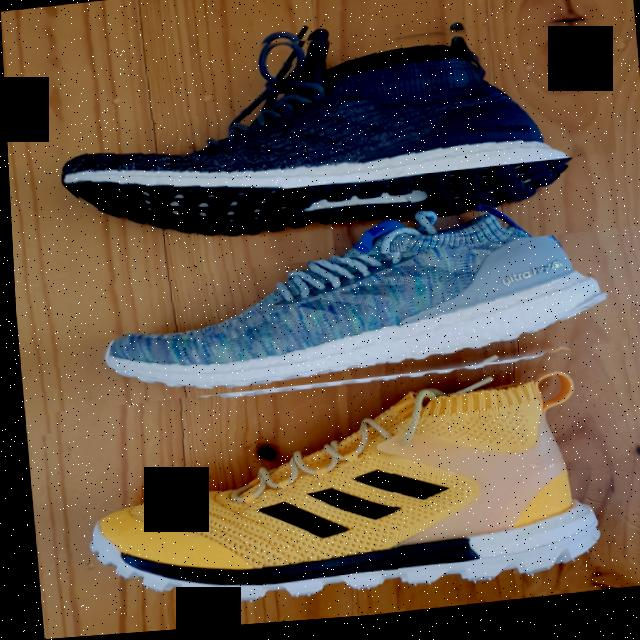shoe: (45, 356, 640, 638), (11, 234, 640, 437), (62, 8, 615, 213)
